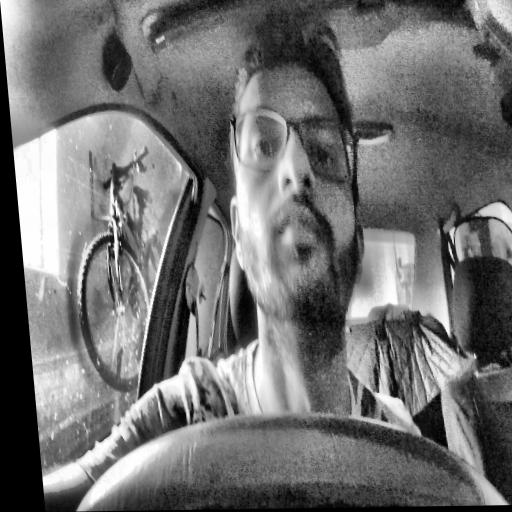awake: (210, 9, 372, 331)
